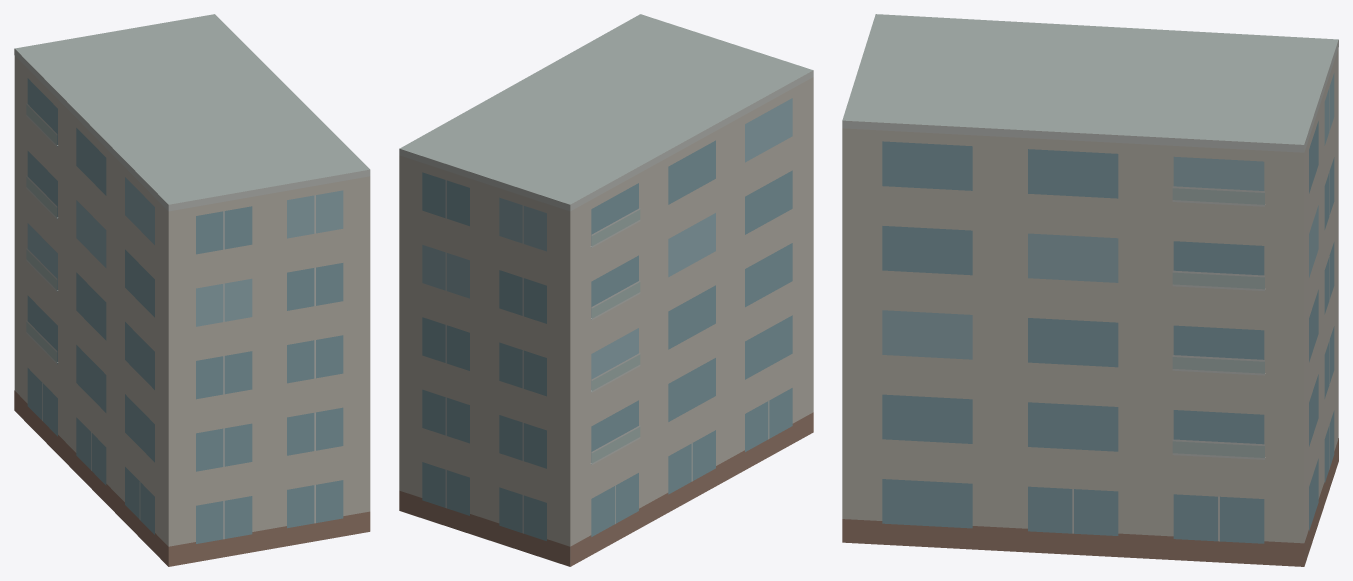
File: survey-upis-32939370.glb
The picture shows the model from 3 angles, left to right: view 1: azimuth 30°, elevation 25°; view 2: azimuth 150°, elevation 25°; view 3: azimuth 270°, elevation 25°; orthographic projection. The views are drawn at different scales.
Parts seen in each view (by area): view 1: survey-upis-32939370.tmp; view 2: survey-upis-32939370.tmp; view 3: survey-upis-32939370.tmp.
Boxes of the visible parts, x1,y1,x2,y2 form: survey-upis-32939370.tmp: [14, 14, 370, 566]; survey-upis-32939370.tmp: [399, 14, 813, 566]; survey-upis-32939370.tmp: [842, 14, 1338, 566].
Bounding box in the file's own units: 8.79 × 13.2 × 14.09.
